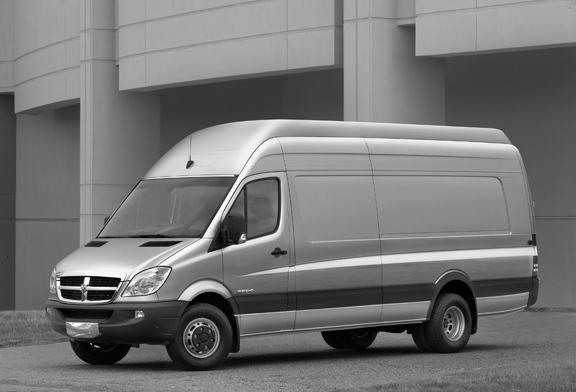car: (48, 122, 540, 369)
